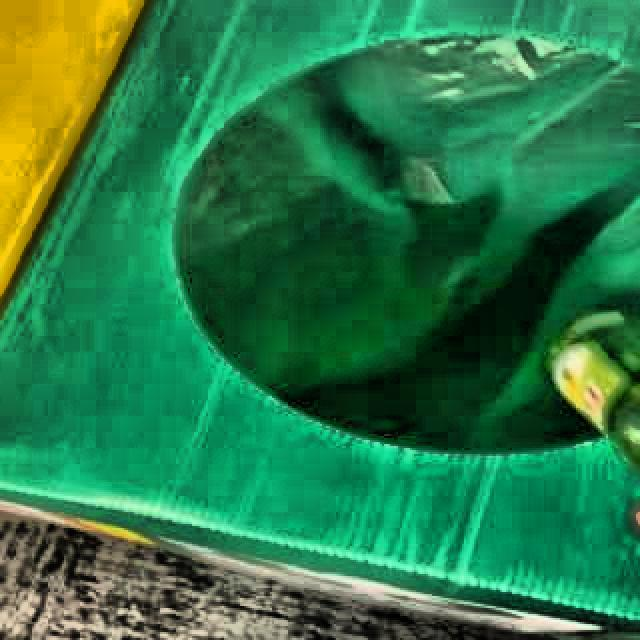glass: (552, 316, 640, 468)
